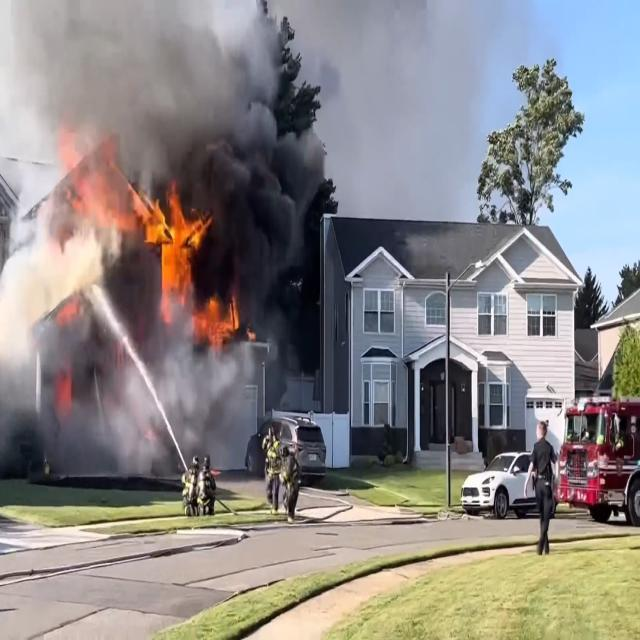Fire: (148, 184, 207, 342), (70, 132, 142, 234)
Smoke: (204, 32, 302, 328)
